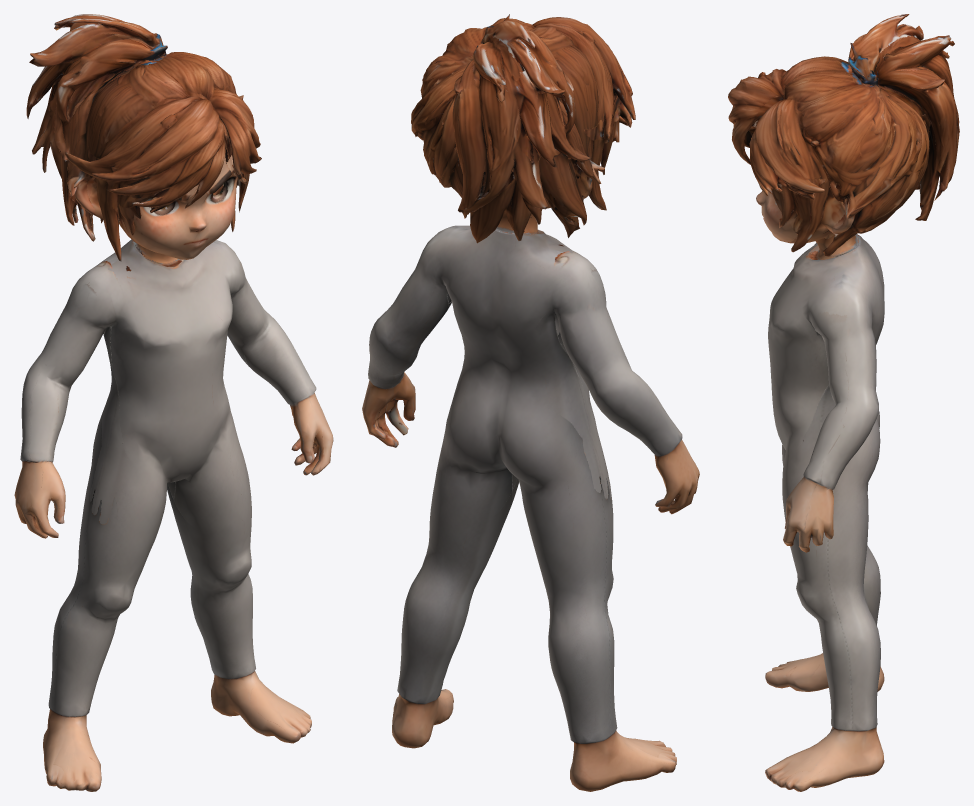
File: body.glb
3 views of the same model, side by side, from view 1: azimuth 30°, elevation 25°; view 2: azimuth 150°, elevation 25°; view 3: azimuth 270°, elevation 25° (orthographic). The views are drawn at different scales.
Visible parts, largest first — view 1: texture_mapping; view 2: texture_mapping; view 3: texture_mapping.
Boxes of the visible parts, x1,y1,x2,y2 form: texture_mapping: (14,14,333,791); texture_mapping: (362,14,699,791); texture_mapping: (728,14,959,791).
Size of the model in its own units: 0.4546 by 1 by 0.3015.
1 material, 1 textured.
